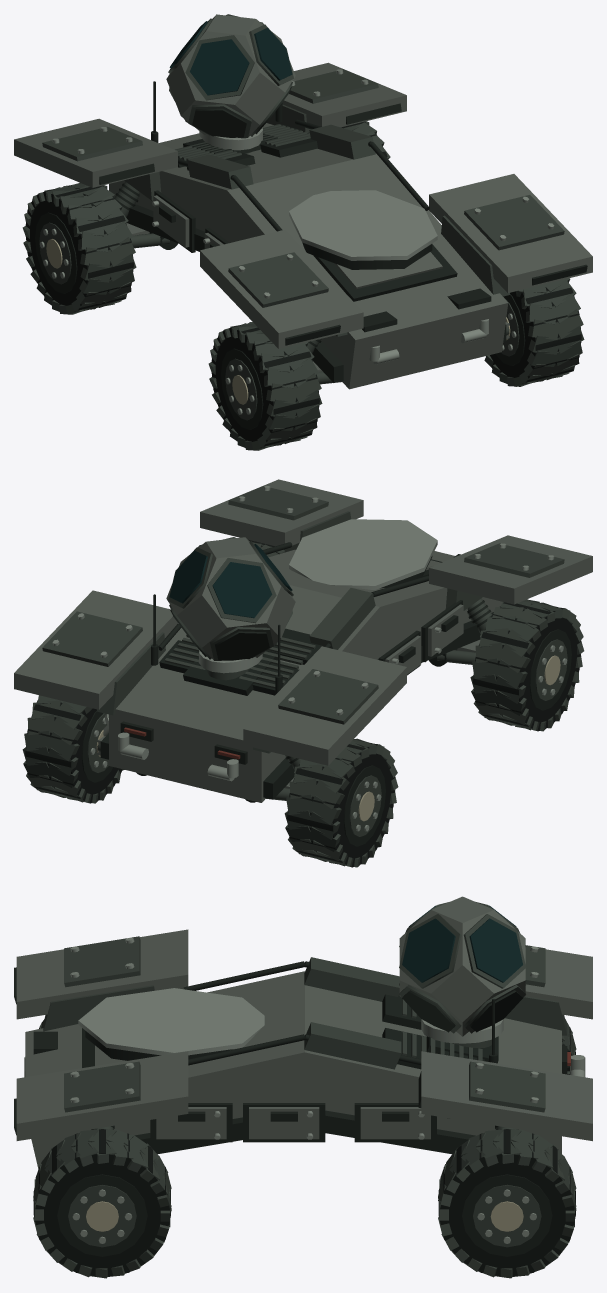
The picture shows the model from 3 angles, top to bottom: view 1: azimuth 30°, elevation 25°; view 2: azimuth 150°, elevation 25°; view 3: azimuth 270°, elevation 25°; orthographic projection. The views are drawn at different scales.
Parts seen in each view (by area): view 1: XB12_HULL, WHEEL_RL, WHEEL_FL, WHEEL_FR, SENSOR_INSTRUMENTS, SENSOR_HEX_SPHERE, SUSP_ARM_RL; view 2: XB12_HULL, WHEEL_FL, WHEEL_RL, WHEEL_RR, SENSOR_INSTRUMENTS, SENSOR_HEX_SPHERE, SUSP_ARM_FL, DAMPER_BARREL_FL; view 3: XB12_HULL, WHEEL_FR, WHEEL_RR, SENSOR_INSTRUMENTS, SENSOR_HEX_SPHERE.
Boxes of the visible parts, left/top/right/bottom form: XB12_HULL: left=14, top=62, right=592, bottom=389; WHEEL_RL: left=22, top=182, right=136, bottom=314; WHEEL_FL: left=208, top=322, right=322, bottom=450; WHEEL_FR: left=484, top=278, right=584, bottom=386; SENSOR_INSTRUMENTS: left=168, top=14, right=293, bottom=138; SENSOR_HEX_SPHERE: left=166, top=14, right=295, bottom=137; SUSP_ARM_RL: left=126, top=223, right=177, bottom=249; XB12_HULL: left=14, top=479, right=592, bottom=802; WHEEL_FL: left=470, top=599, right=584, bottom=731; WHEEL_RL: left=284, top=738, right=398, bottom=867; WHEEL_RR: left=22, top=695, right=124, bottom=803; SENSOR_INSTRUMENTS: left=168, top=537, right=293, bottom=660; SENSOR_HEX_SPHERE: left=166, top=537, right=295, bottom=660; SUSP_ARM_FL: left=429, top=640, right=480, bottom=666; DAMPER_BARREL_FL: left=467, top=598, right=492, bottom=636; XB12_HULL: left=14, top=929, right=592, bottom=1168; WHEEL_FR: left=33, top=1128, right=171, bottom=1278; WHEEL_RR: left=438, top=1128, right=576, bottom=1278; SENSOR_INSTRUMENTS: left=399, top=902, right=526, bottom=1033; SENSOR_HEX_SPHERE: left=399, top=896, right=525, bottom=1036.
Size of the model in its own units: 2.88 by 2.31 by 4.22.
